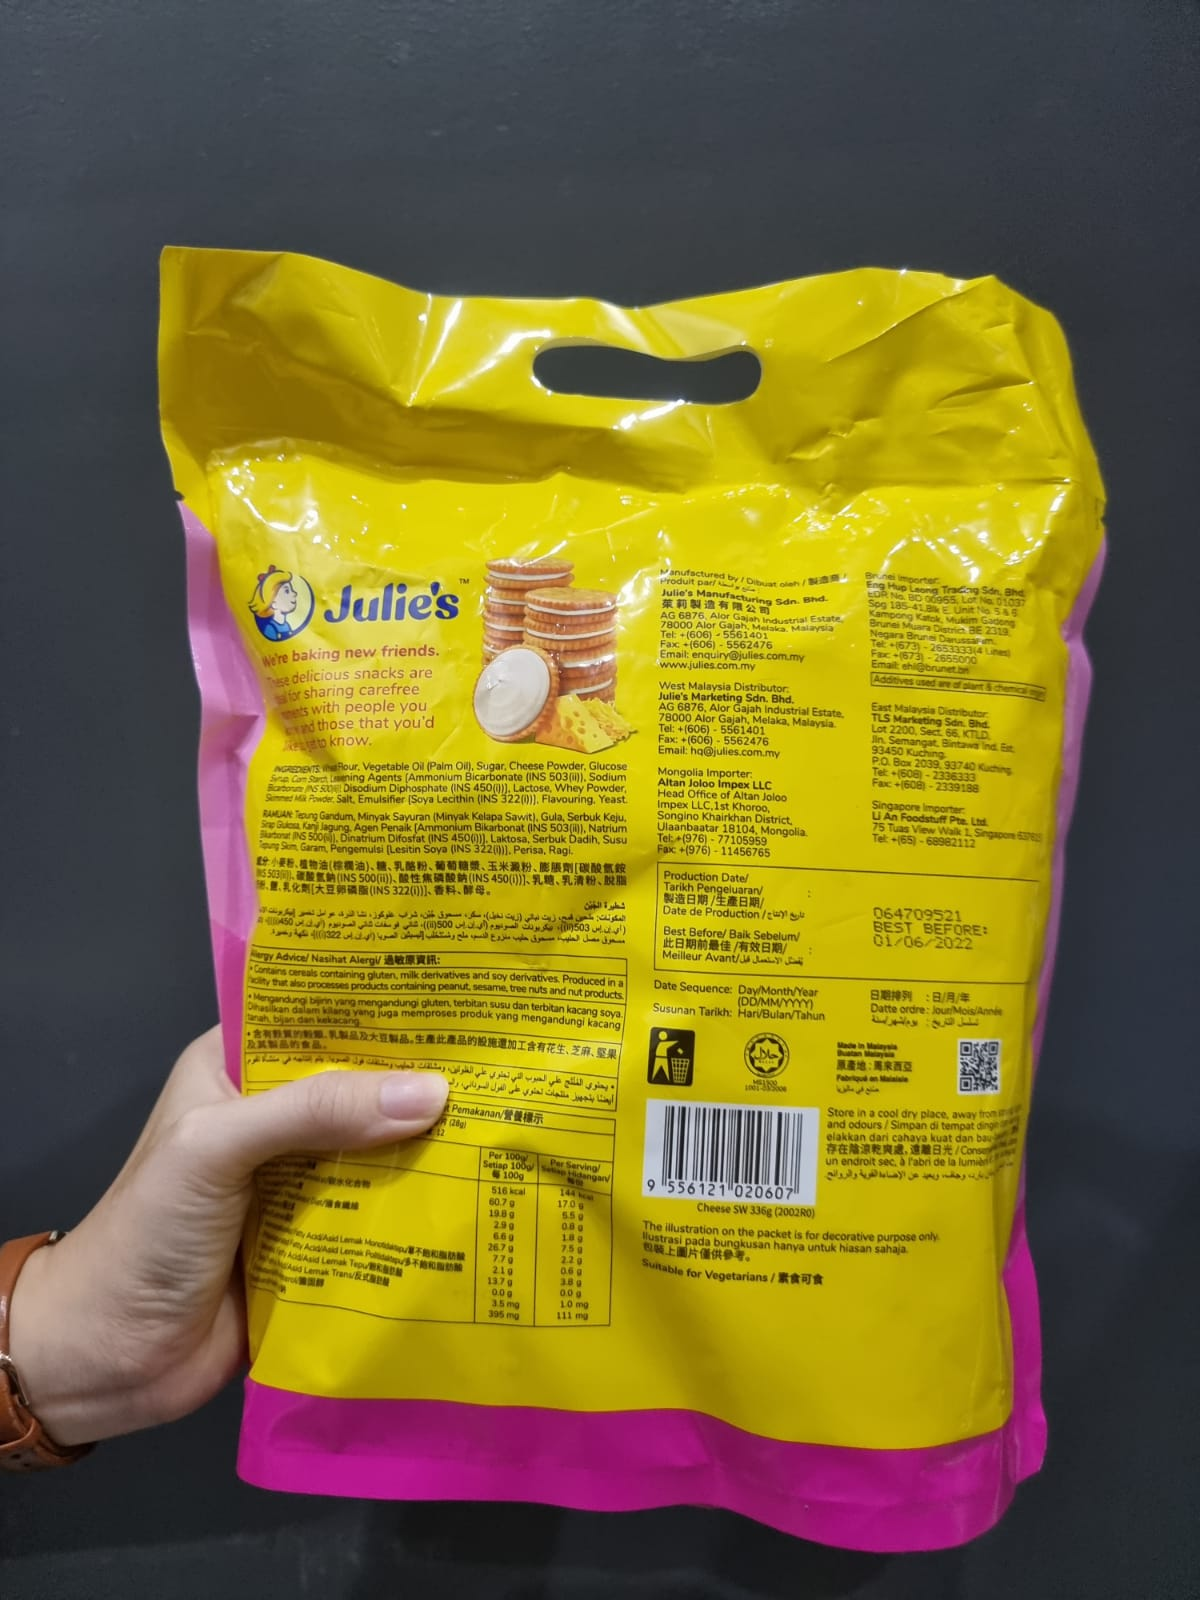Halal: (737, 1033, 788, 1080)
